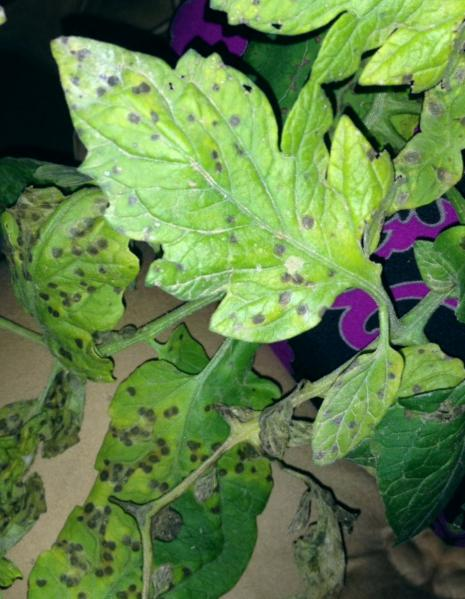Tomato Septoria leaf spot: (0, 0, 438, 378), (314, 157, 465, 561), (0, 140, 192, 406), (72, 335, 257, 536), (271, 313, 420, 512), (366, 123, 465, 236)
